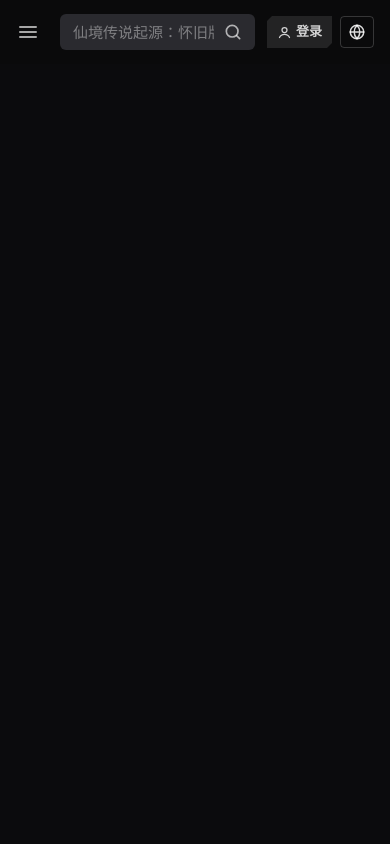
Test: Header — mobile menu (dropdown under the bar, hamburger on the left) › toggles open/closed from the same button and locks page scroll
The image size is (390, 844).
Click the button named "打开菜单": (28, 32) [8,12,48,52]
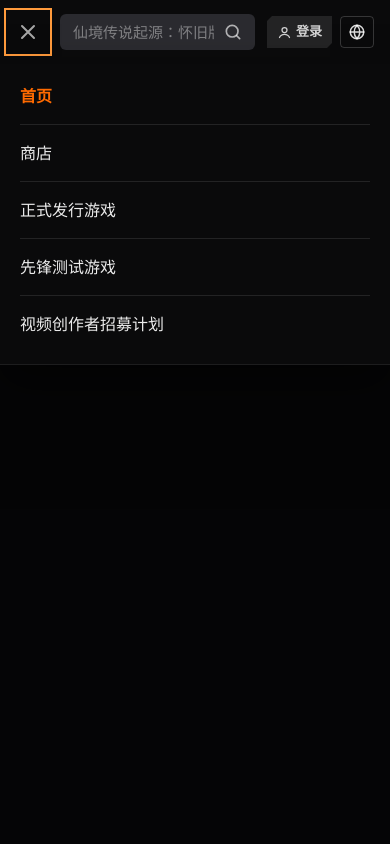
Result: the navigation bar named "主菜单" is shown at [0,64,389,365]
Result: the button named "打开菜单" is expanded
Click the button named "打开菜单": (28, 32) [8,12,48,52]
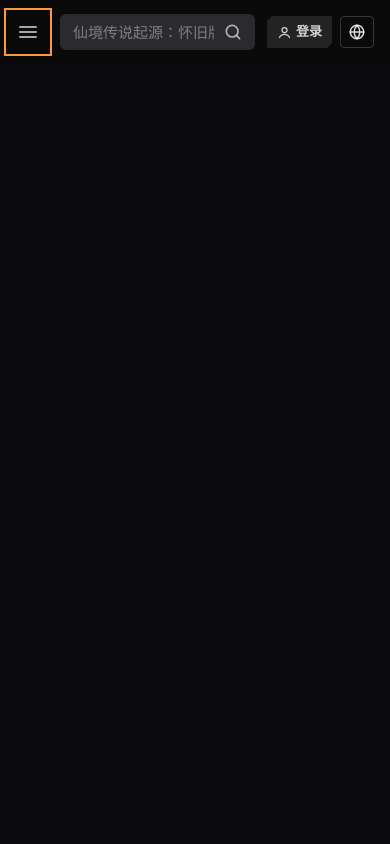
Result: the navigation bar "主菜单" is gone
